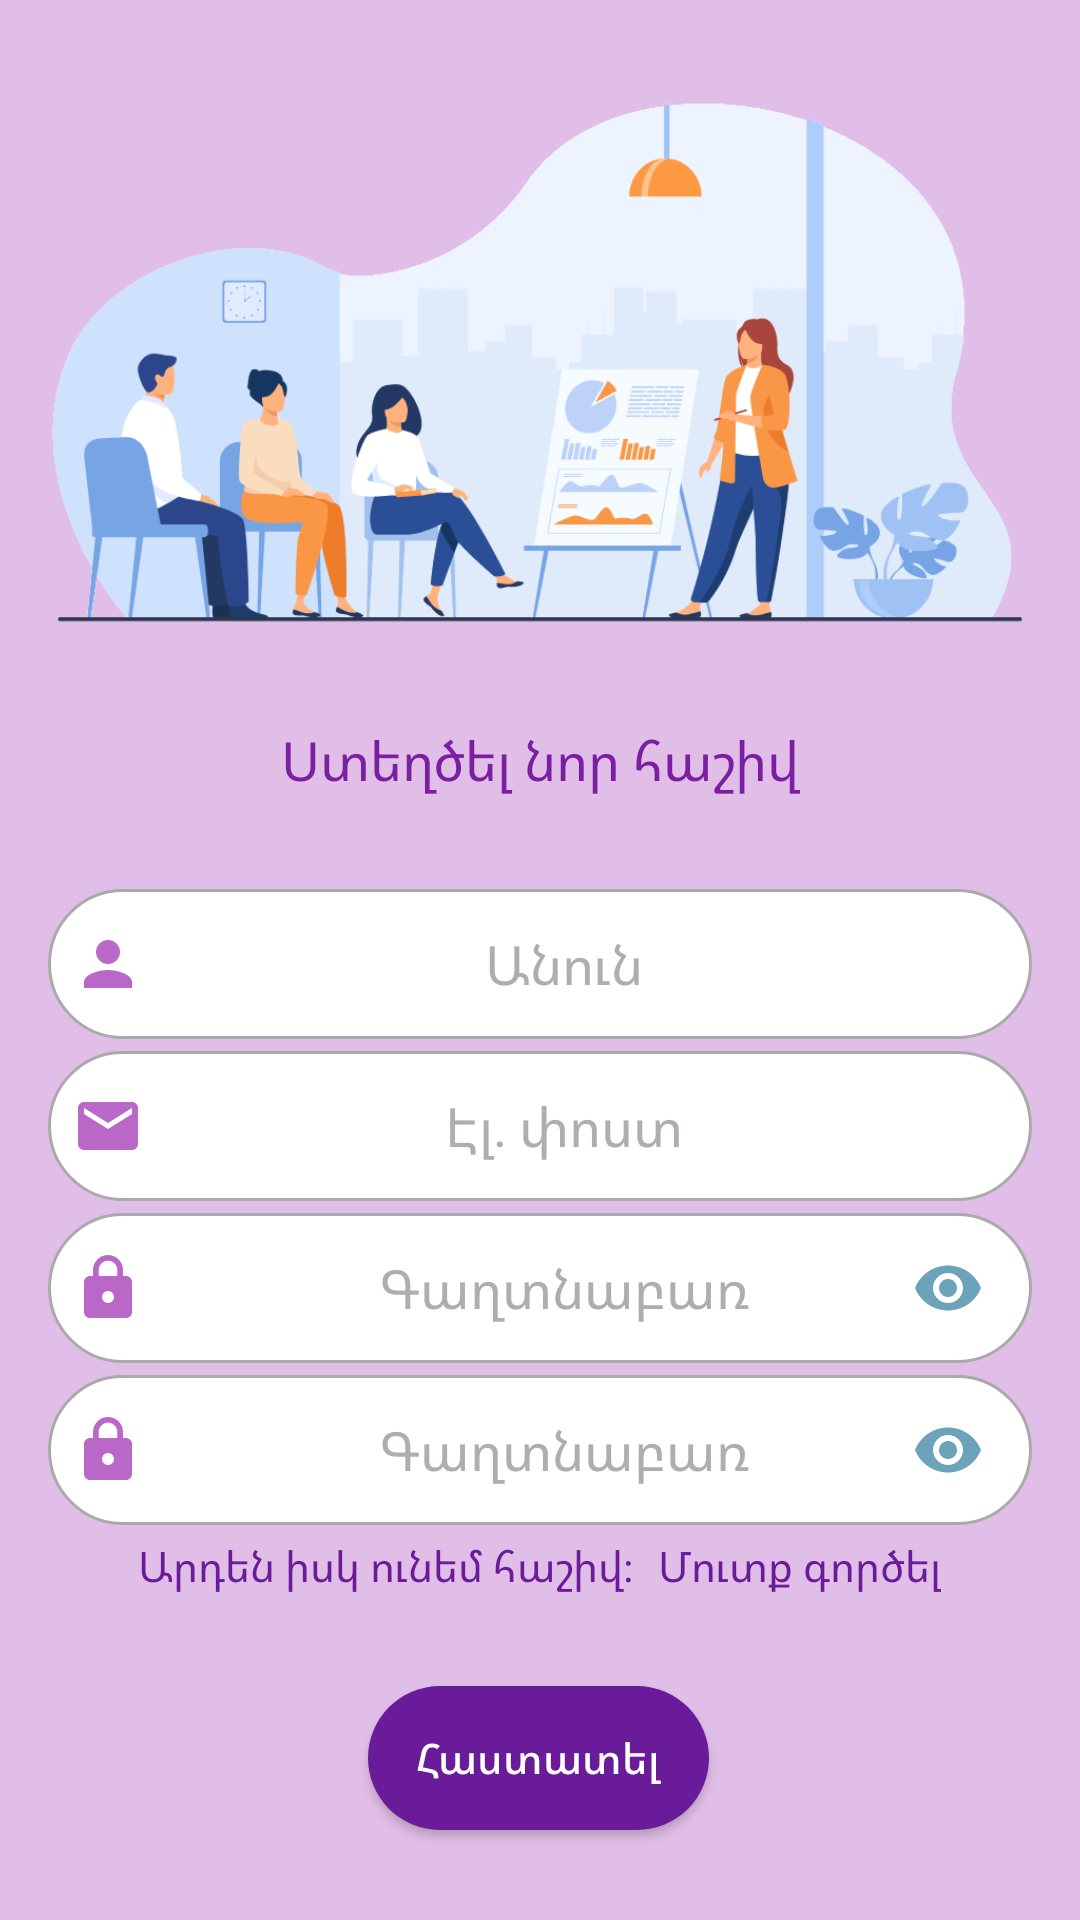

Screen size 1080 × 1920. Icon name, then its box in pixels as (x1, y1, x2, y2):
Show/Hide: (915, 1265, 981, 1311), (915, 1427, 981, 1473)
